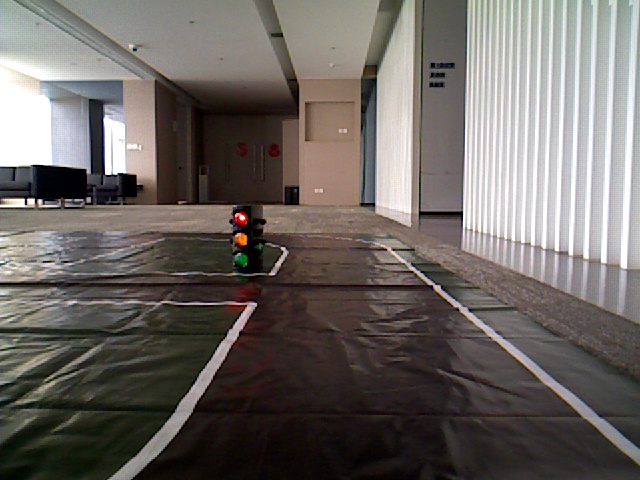red: (229, 211, 252, 267)
